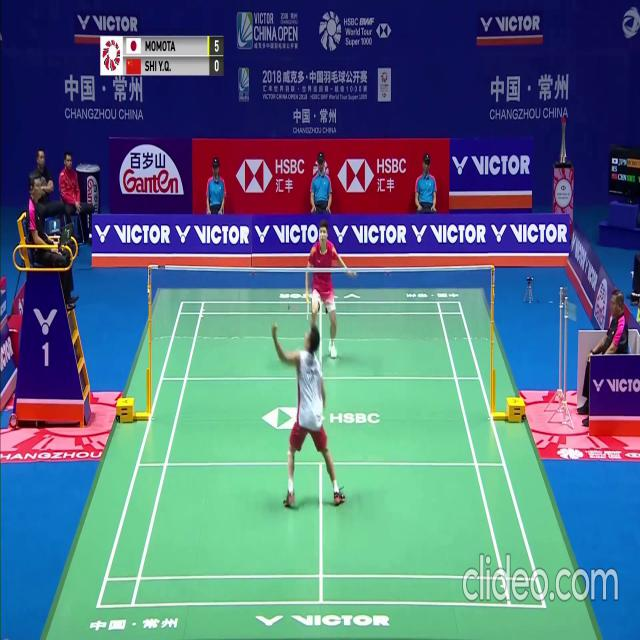Shuttlecock: (241, 227, 245, 235)
